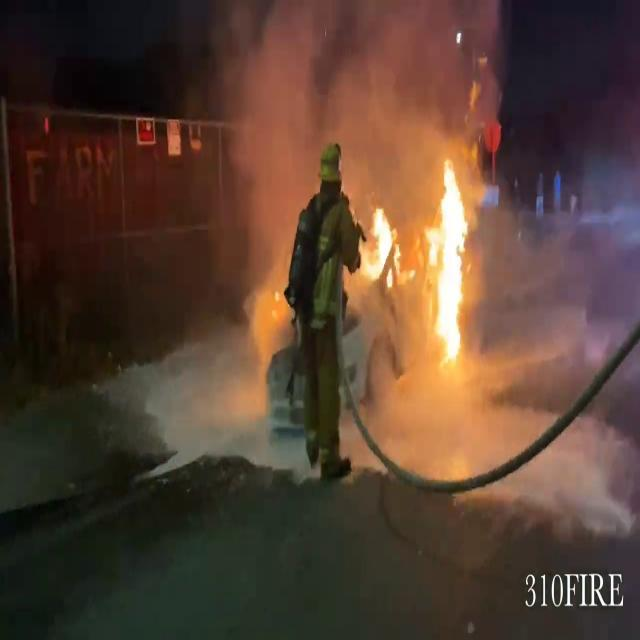Fire: (431, 158, 474, 366), (358, 204, 404, 296)
Smoke: (183, 0, 500, 212)
